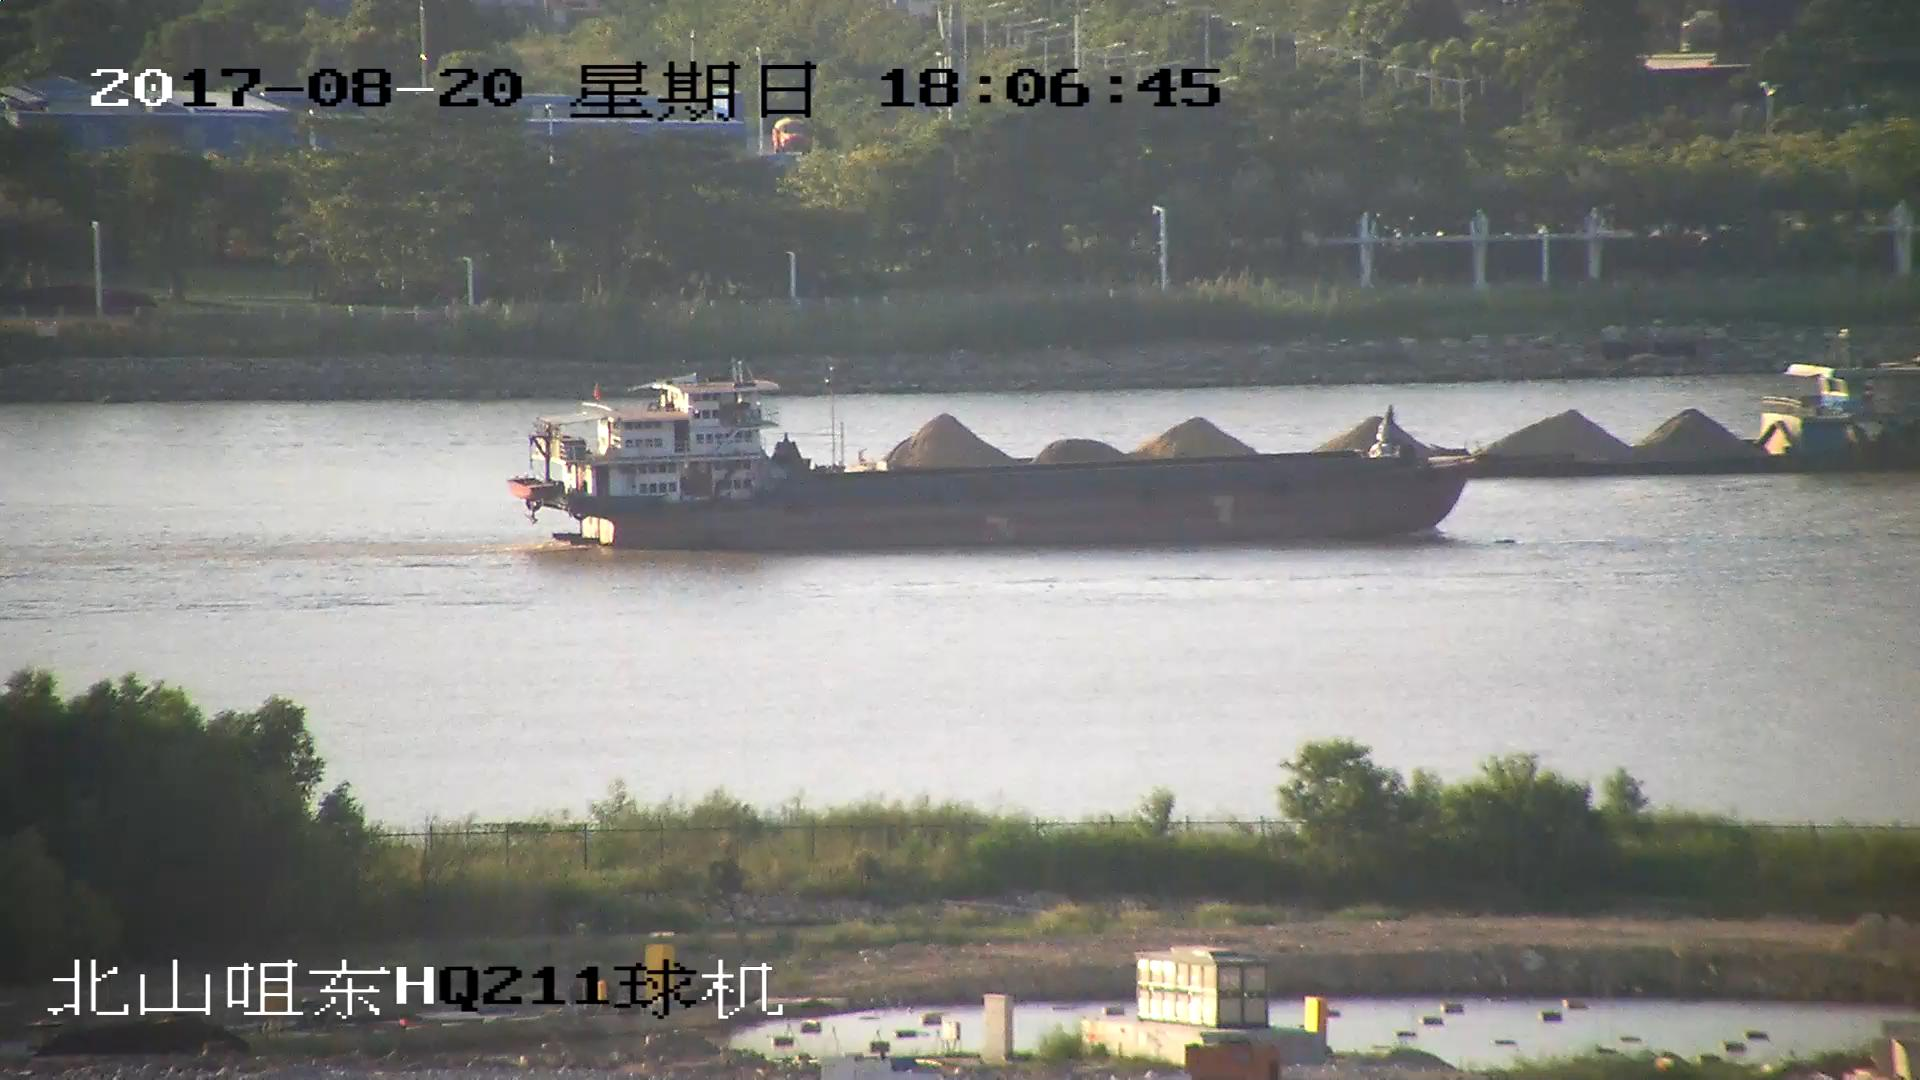bulk cargo carrier: (504, 374, 1480, 552)
ore carrier: (816, 358, 1920, 481)
